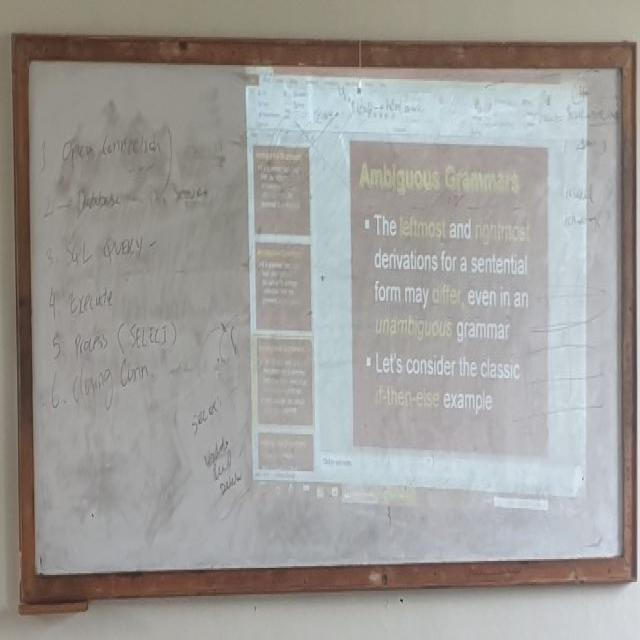Slide: (241, 52, 589, 521)
White-board: (23, 46, 631, 588)
